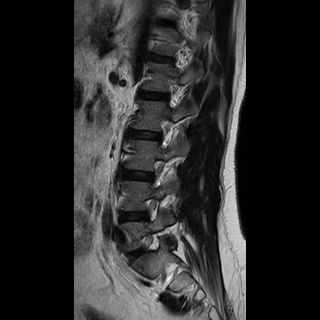LFS0: (132, 226, 165, 262), (135, 192, 166, 228)
